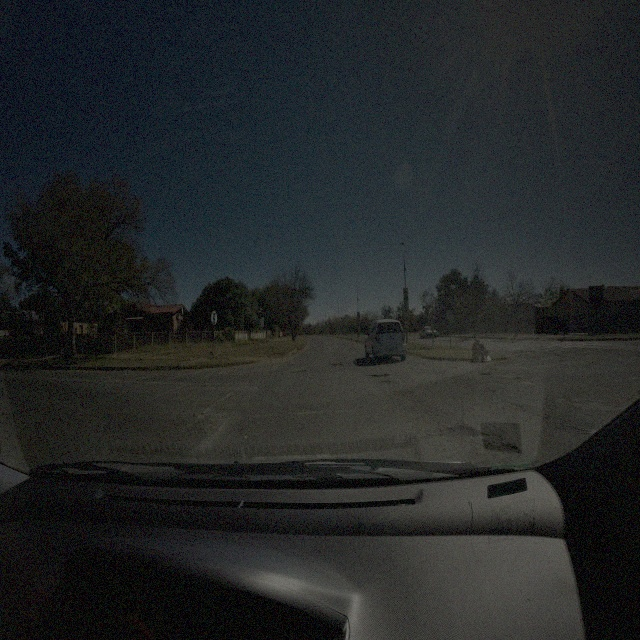pothole: (438, 418, 487, 438), (489, 441, 521, 457), (370, 371, 387, 379), (291, 368, 306, 374), (511, 374, 524, 380), (480, 371, 492, 377), (335, 362, 343, 367)
